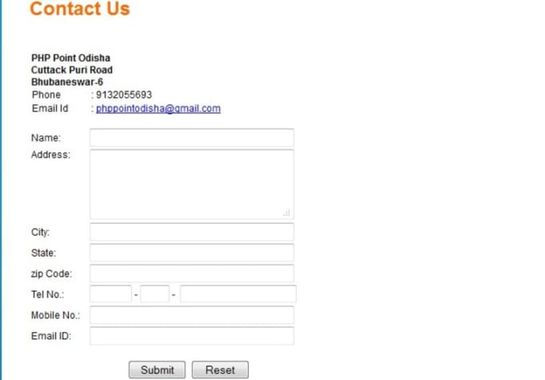_form_: (1, 1, 416, 380)
button: (127, 360, 186, 380), (189, 360, 248, 380)
field: (86, 148, 295, 221), (85, 327, 300, 348), (85, 305, 298, 326), (86, 127, 295, 148), (87, 265, 298, 285), (87, 223, 297, 243), (86, 244, 296, 264), (179, 285, 297, 304), (88, 284, 133, 304), (138, 284, 170, 304)
field_with_label: (29, 147, 297, 223), (31, 242, 299, 267), (32, 125, 298, 150), (28, 263, 299, 287), (32, 326, 302, 350), (31, 304, 300, 328), (32, 222, 299, 246), (31, 284, 135, 306)
